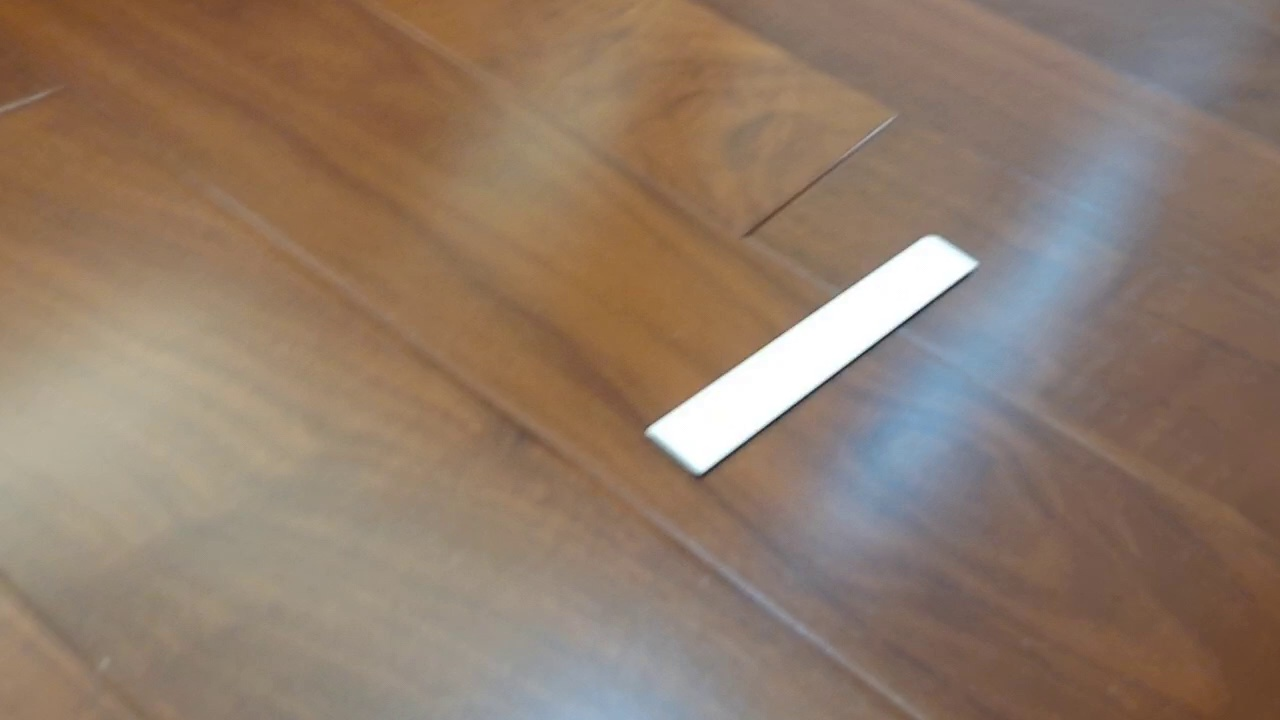ruler: (643, 232, 980, 481)
